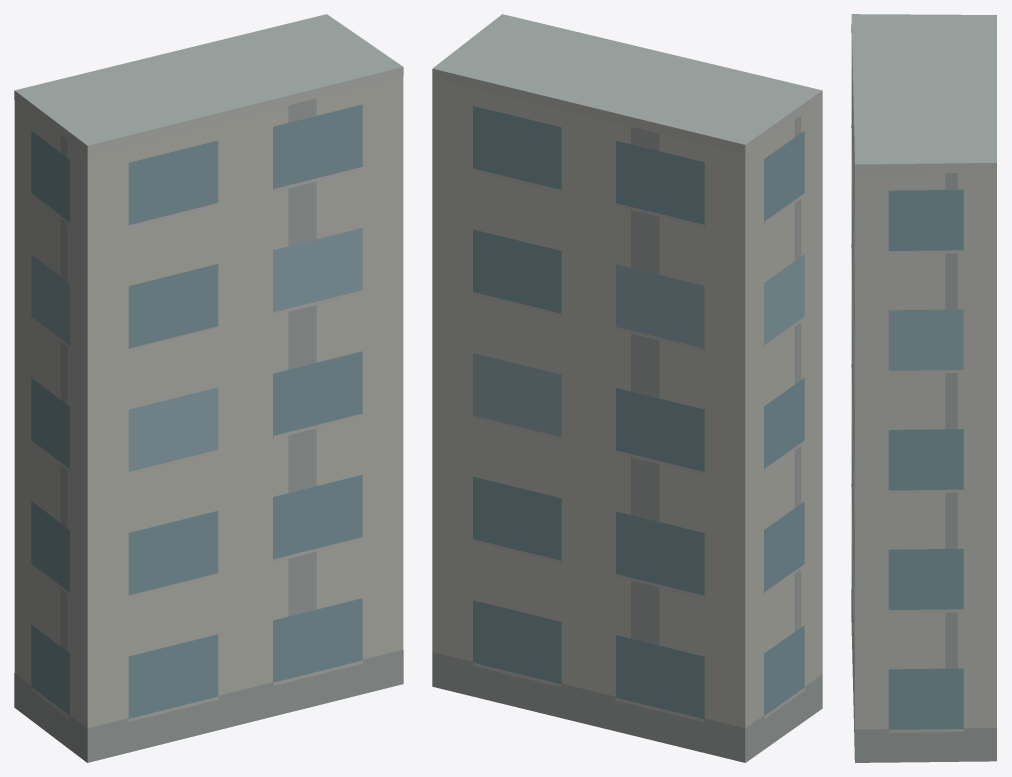
Rendered from survey-upis-32922774.glb.
The picture shows the model from 3 angles, left to right: view 1: azimuth 30°, elevation 25°; view 2: azimuth 150°, elevation 25°; view 3: azimuth 270°, elevation 25°; orthographic projection. The views are drawn at different scales.
Visible parts, largest first — view 1: survey-upis-32922774.tmp; view 2: survey-upis-32922774.tmp; view 3: survey-upis-32922774.tmp.
Part boxes in pixels (x1,y1,x2,y2): survey-upis-32922774.tmp: [14, 14, 403, 762]; survey-upis-32922774.tmp: [432, 14, 822, 762]; survey-upis-32922774.tmp: [851, 14, 996, 762].
Bounding box in the file's own units: 8.23 × 15.25 × 3.38.
